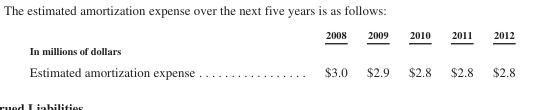table: (28, 28, 514, 78)
table column: (28, 28, 259, 78), (259, 28, 356, 78), (356, 28, 398, 78), (398, 28, 440, 78), (440, 28, 482, 78), (482, 28, 514, 78)
table column header: (28, 28, 514, 42)
table projected row header: (28, 42, 514, 60)
table row: (28, 42, 514, 60), (28, 60, 514, 78), (28, 28, 514, 42)
